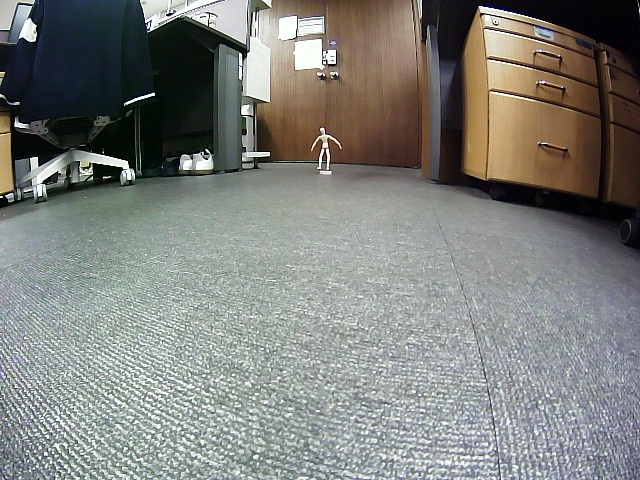person: (311, 127, 342, 171)
